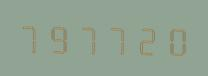nine: (45, 18, 72, 55)
seven: (102, 19, 129, 56), (17, 18, 44, 54), (74, 19, 101, 55)
two: (130, 20, 157, 56)
zero: (158, 20, 185, 57)
